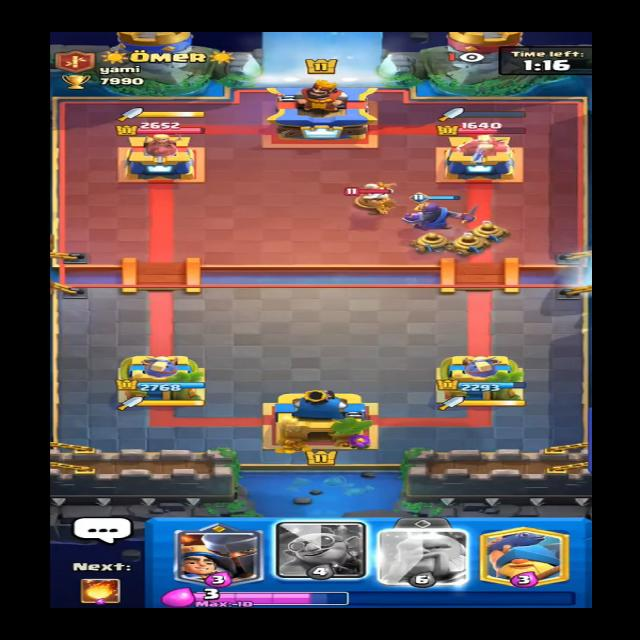Monk: (336, 175, 416, 215)
